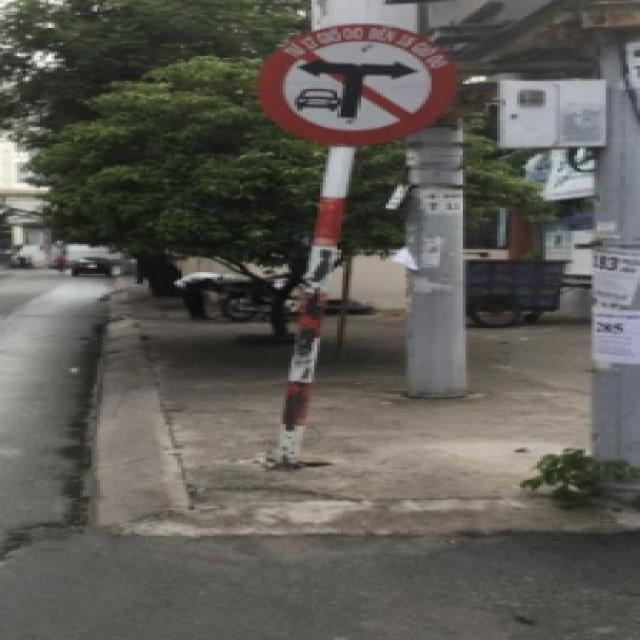137-cam-re-trai-va-re-phai: (257, 24, 457, 142)
